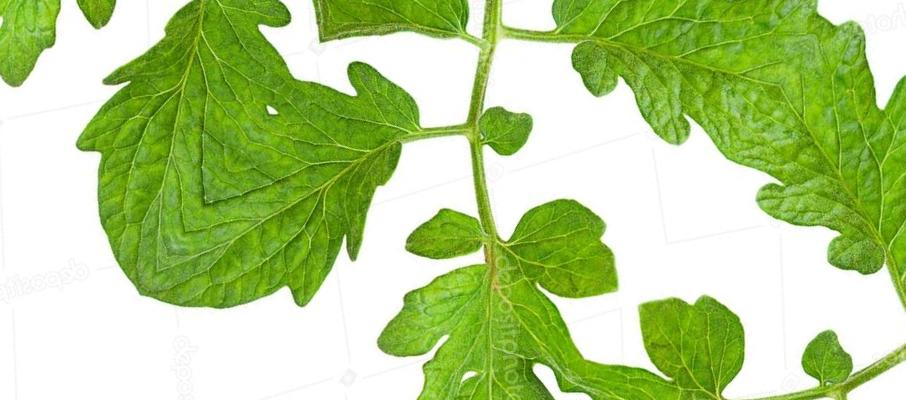Tomato leaf: (197, 111, 677, 400), (101, 31, 444, 400), (511, 0, 854, 196), (304, 0, 505, 140)
